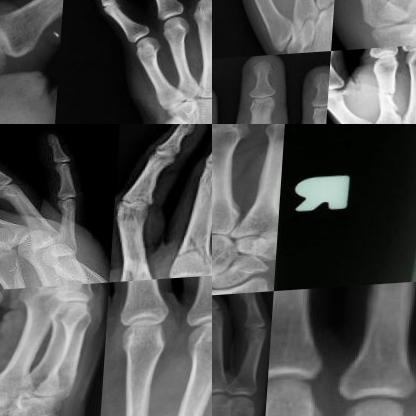fracture: (172, 229, 211, 271), (378, 81, 408, 121), (79, 269, 113, 285), (202, 86, 211, 103)
